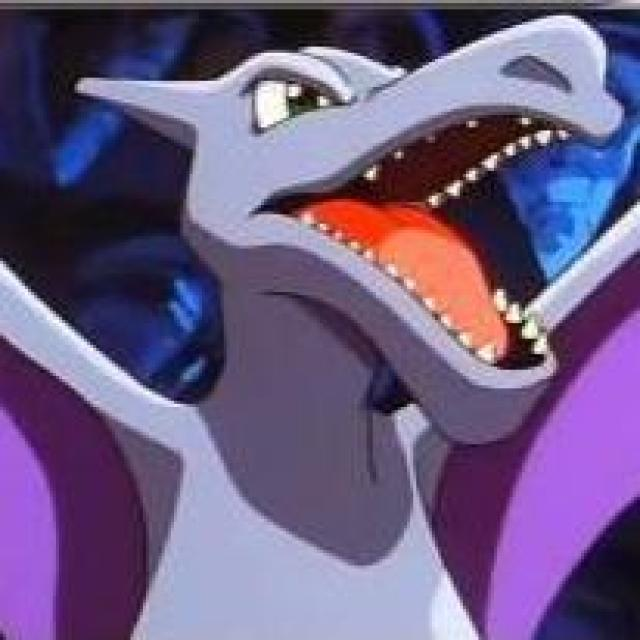Aerodactyl: (45, 14, 608, 601)
